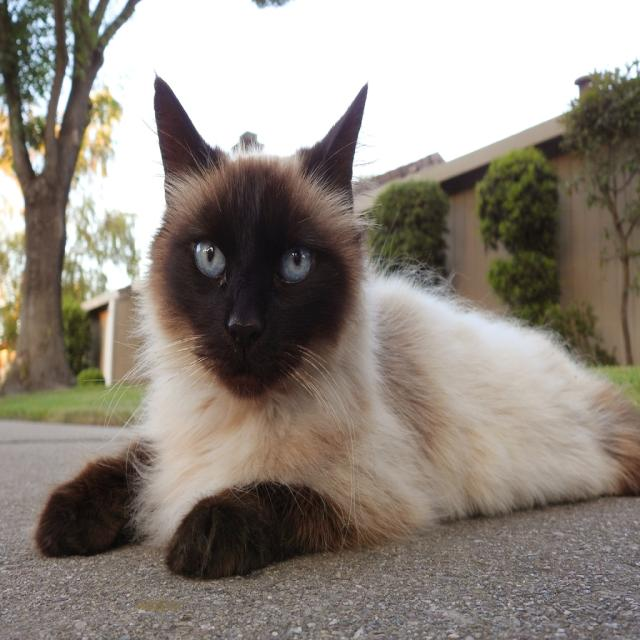Cat: (28, 65, 638, 584)
